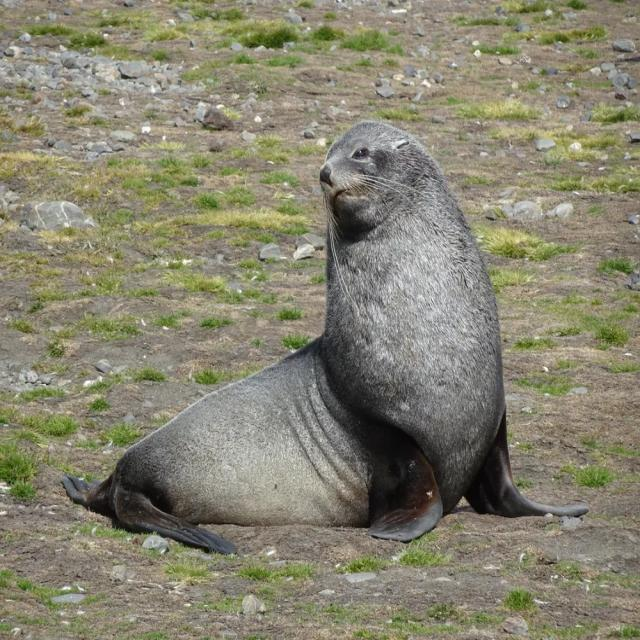WaterDog: (60, 115, 508, 558)
